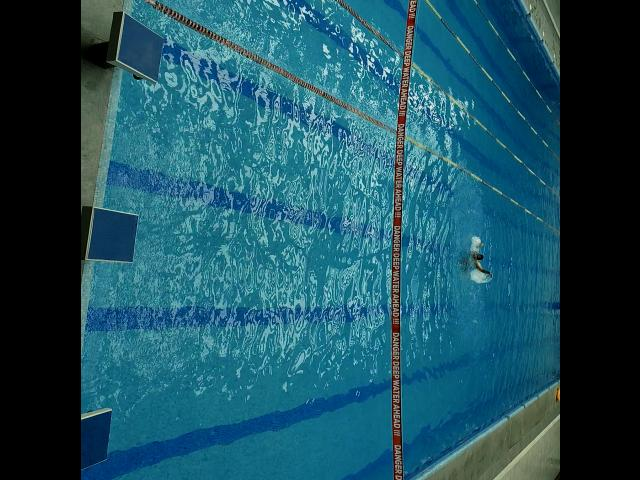drowning: (458, 243, 492, 279)
